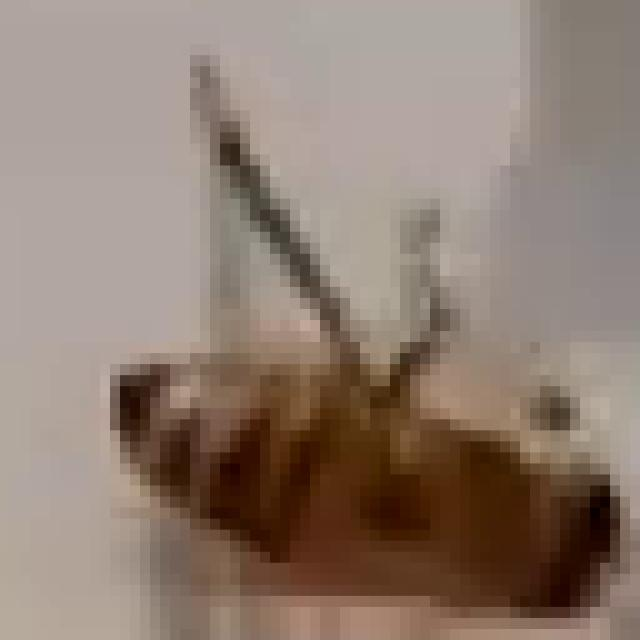honeybee: (80, 198, 630, 640)
